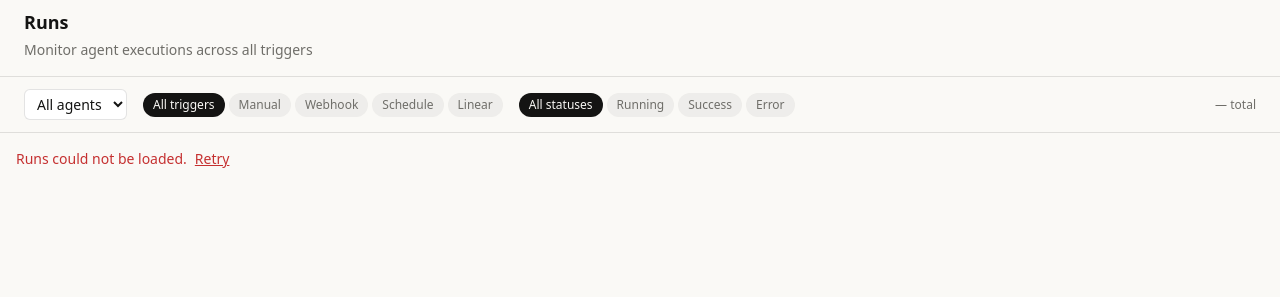
Test: shows unavailable and retries instead of a false empty runs list
Check: the message shows "Runs could not be loaded", box [16,149,187,168]
Check: the text "No executions found" is not shown
Click the button "Retry".
click(212, 159)  # box [195,149,229,169]
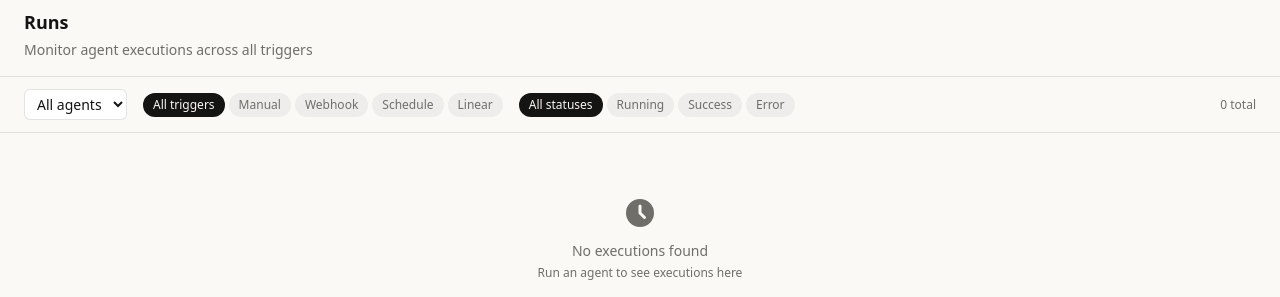
Check: the text "No executions found" is shown, box [572,241,708,260]
